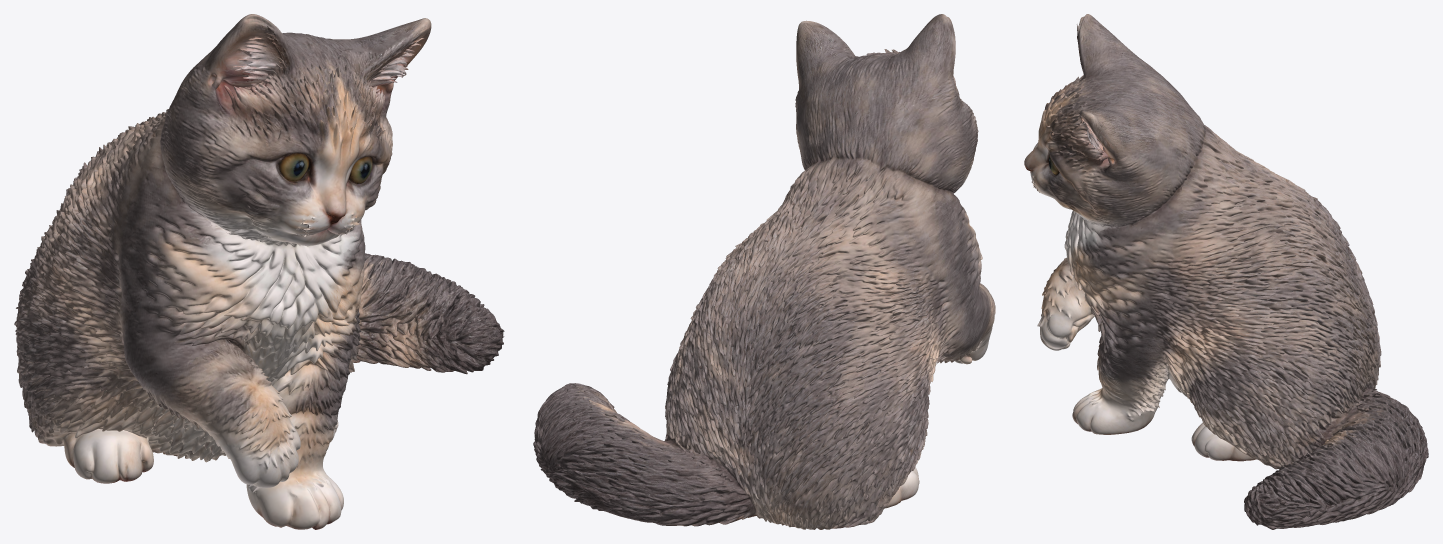
File: kitten.glb
3 views of the same model, side by side, from view 1: azimuth 30°, elevation 25°; view 2: azimuth 150°, elevation 25°; view 3: azimuth 270°, elevation 25° (orthographic). The views are drawn at different scales.
Visible parts, largest first — view 1: kitten; view 2: kitten; view 3: kitten.
Part boxes in pixels (<box>): kitten: <box>14,14,504,529</box>; kitten: <box>533,14,995,529</box>; kitten: <box>1024,14,1428,529</box>.
Size of the model in its own units: 0.2309 by 0.2499 by 0.2367.
Materials: 1 (1 with a texture image).
